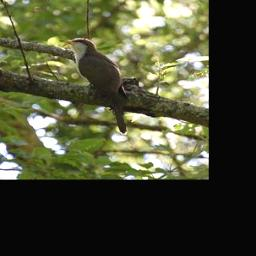Cuckoo: (58, 37, 131, 136)
